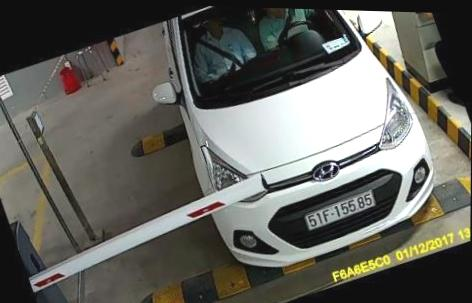License_Plate: (299, 188, 378, 240)
